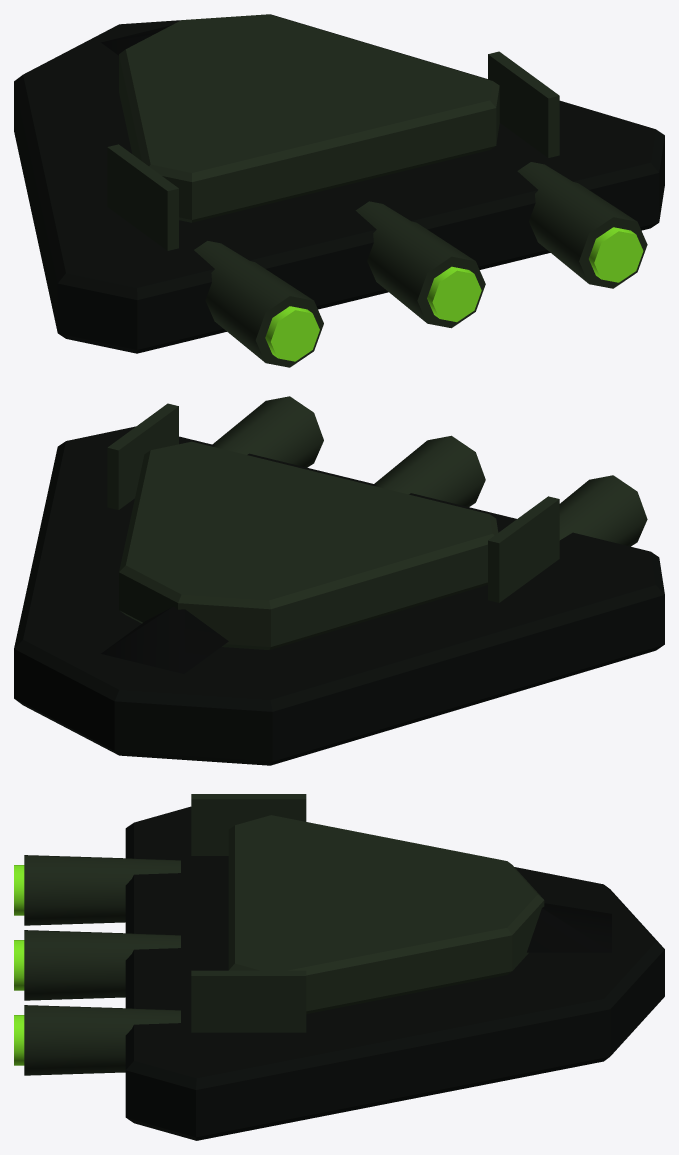
The model's file is Bomber.obj.
3 views of the same model, one above another, from view 1: azimuth 30°, elevation 25°; view 2: azimuth 150°, elevation 25°; view 3: azimuth 270°, elevation 25° (orthographic). The views are drawn at different scales.
Parts seen in each view (by area): view 1: bomber_hull, bomber_spine, bomber_fin, bomber_engine_0_nacelle, bomber_engine_2_nacelle, bomber_engine_1_nacelle, bomber_engine_1_bell, bomber_engine_0_bell, bomber_engine_2_bell, bomber_cockpit; view 2: bomber_hull, bomber_spine, bomber_fin, bomber_engine_2_nacelle, bomber_engine_1_nacelle, bomber_cockpit, bomber_engine_0_nacelle; view 3: bomber_hull, bomber_spine, bomber_fin, bomber_engine_0_nacelle, bomber_engine_2_nacelle, bomber_engine_1_nacelle, bomber_cockpit, bomber_engine_0_bell, bomber_engine_1_bell, bomber_engine_2_bell.
Boxes of the visible parts, <box> form: bomber_hull: <box>14,14,664,353</box>; bomber_spine: <box>119,14,499,222</box>; bomber_fin: <box>107,51,559,250</box>; bomber_engine_0_nacelle: <box>194,241,323,367</box>; bomber_engine_2_nacelle: <box>517,162,647,288</box>; bomber_engine_1_nacelle: <box>355,201,485,328</box>; bomber_engine_1_bell: <box>427,266,481,322</box>; bomber_engine_0_bell: <box>265,306,319,361</box>; bomber_engine_2_bell: <box>589,227,643,282</box>; bomber_cockpit: <box>101,25,171,55</box>; bomber_hull: <box>14,426,664,765</box>; bomber_spine: <box>119,441,498,649</box>; bomber_fin: <box>107,403,559,602</box>; bomber_engine_2_nacelle: <box>212,396,323,467</box>; bomber_engine_1_nacelle: <box>374,435,485,506</box>; bomber_cockpit: <box>101,606,228,673</box>; bomber_engine_0_nacelle: <box>559,475,647,546</box>; bomber_hull: <box>125,806,664,1140</box>; bomber_spine: <box>228,815,544,1013</box>; bomber_fin: <box>191,794,306,1032</box>; bomber_engine_0_nacelle: <box>24,855,180,925</box>; bomber_engine_2_nacelle: <box>24,1005,180,1075</box>; bomber_engine_1_nacelle: <box>24,930,180,1000</box>; bomber_cockpit: <box>527,903,611,952</box>; bomber_engine_0_bell: <box>14,865,24,915</box>; bomber_engine_1_bell: <box>14,940,24,990</box>; bomber_engine_2_bell: <box>14,1015,24,1065</box>.
Bounding box in the file's own units: 17.41 × 3.85 × 17.01.
